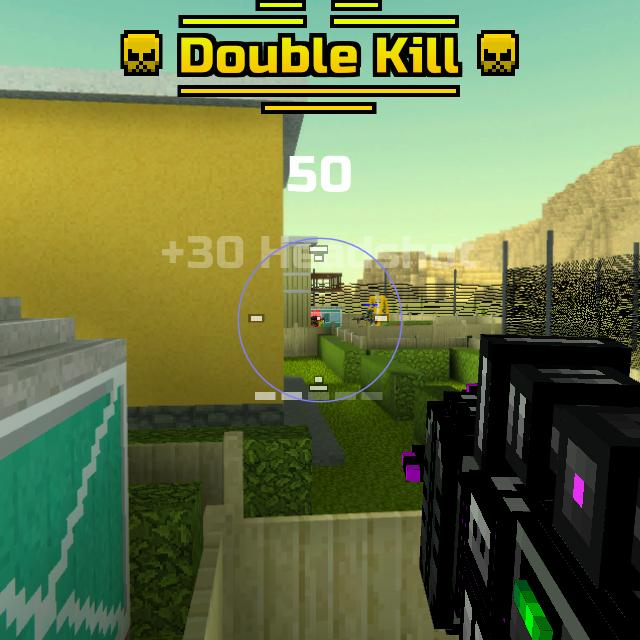Enemy: (311, 315, 322, 326)
